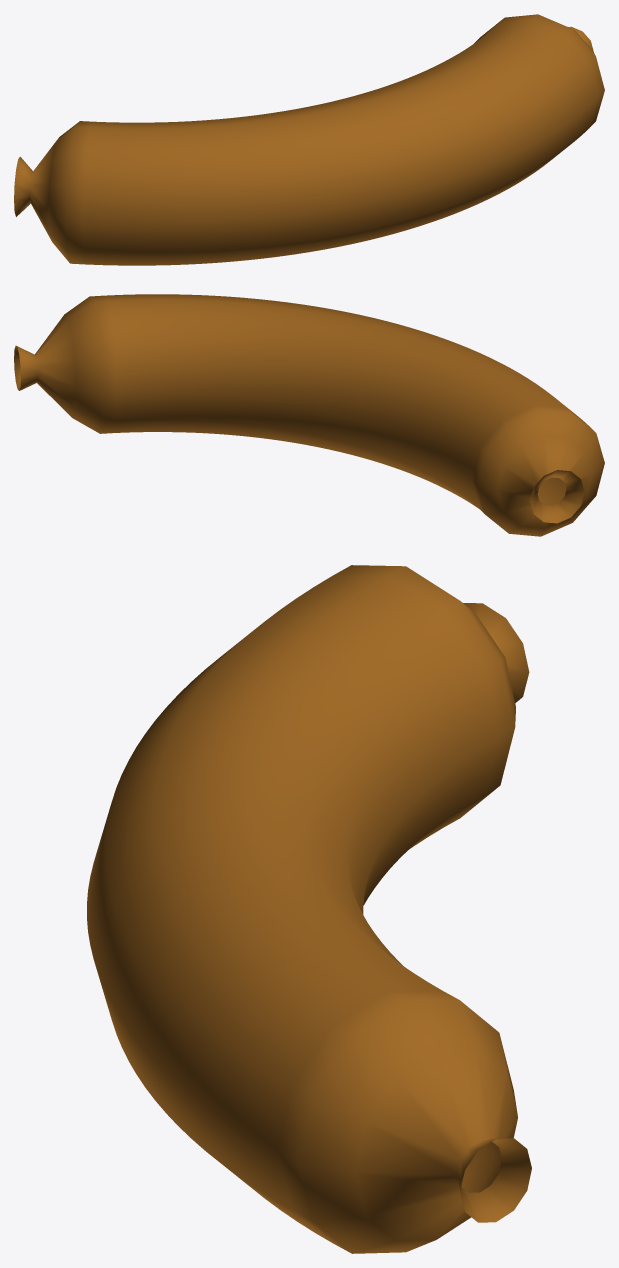
The model's file is sausages.glb.
The picture shows the model from 3 angles, top to bottom: view 1: azimuth 30°, elevation 25°; view 2: azimuth 150°, elevation 25°; view 3: azimuth 270°, elevation 25°; orthographic projection. The views are drawn at different scales.
Visible parts, largest first — view 1: NurbsCurve.027; view 2: NurbsCurve.027; view 3: NurbsCurve.027.
Part boxes in pixels (<box>): NurbsCurve.027: <box>14,14,604,265</box>; NurbsCurve.027: <box>14,294,604,536</box>; NurbsCurve.027: <box>87,565,531,1253</box>.
Size of the model in its own units: 0.1512 by 0.0321 by 0.0516.
